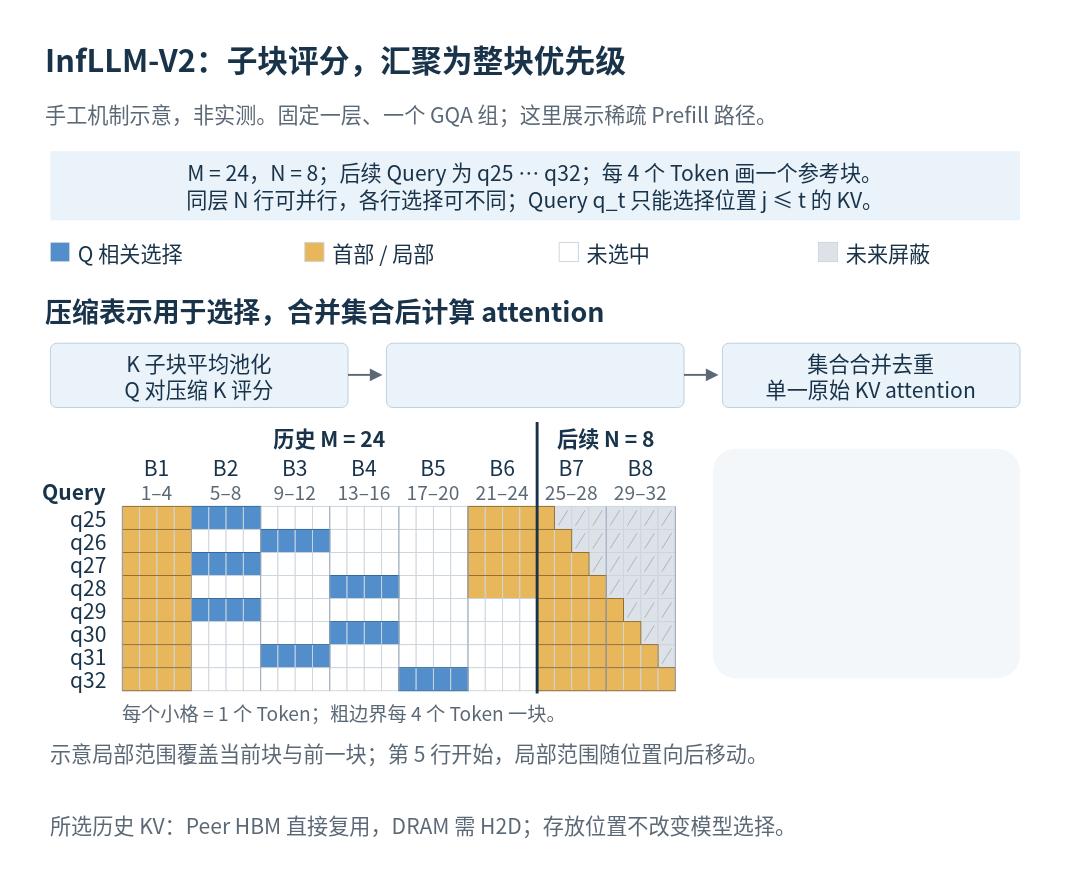
This 1069x877 diagram has some shape labels left out. The centre of each missing label's shape, as x and y in pixels:
组内聚合 + 块内 Max 选块并加入首部 / 局部块: the point at 534,375
蓝：1 个相关块。 金：首块 + 本地 2 块。 压缩 K 用于选择。 没有 NSA 的独立 压缩输出分支。 本图展示稀疏路径。: the point at 866,563
